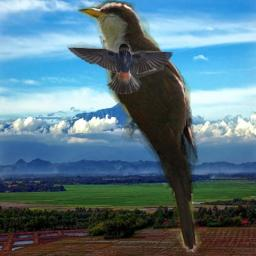Cuckoo: (77, 0, 204, 255)
Swallow: (64, 41, 175, 94)
